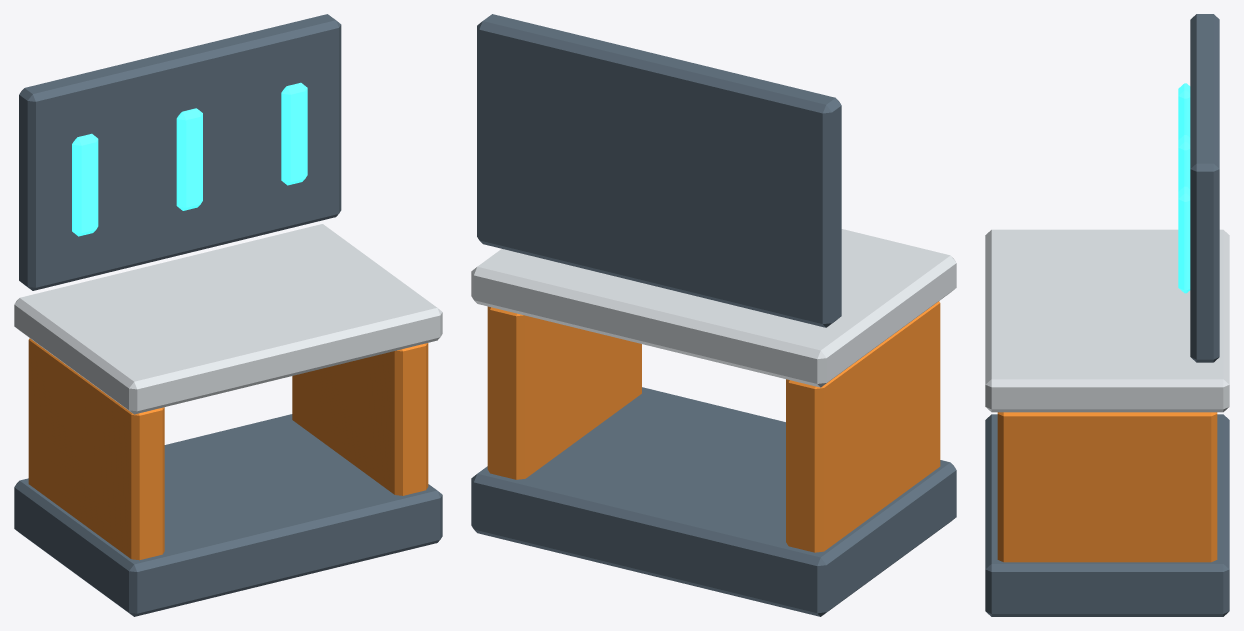
File: machine-workbench.fbx
The picture shows the model from 3 angles, left to right: view 1: azimuth 30°, elevation 25°; view 2: azimuth 150°, elevation 25°; view 3: azimuth 270°, elevation 25°; orthographic projection. The views are drawn at different scales.
Parts seen in each view (by area): view 1: machine-workbench_Tool panel.001, machine-workbench_Work surface.001, machine-workbench_Skid.001, machine-workbench_Leg.002, machine-workbench_Leg.003, machine-workbench_Tools.003, machine-workbench_Tools.005, machine-workbench_Tools.004; view 2: machine-workbench_Tool panel.001, machine-workbench_Skid.001, machine-workbench_Work surface.001, machine-workbench_Leg.002, machine-workbench_Leg.003; view 3: machine-workbench_Work surface.001, machine-workbench_Leg.003, machine-workbench_Skid.001, machine-workbench_Tool panel.001, machine-workbench_Tools.005, machine-workbench_Tools.003, machine-workbench_Tools.004.
Boxes of the visible parts, x1,y1,x2,y2 form: machine-workbench_Tool panel.001: (19, 14, 341, 290); machine-workbench_Work surface.001: (14, 224, 442, 414); machine-workbench_Skid.001: (14, 414, 442, 616); machine-workbench_Leg.002: (28, 338, 164, 560); machine-workbench_Leg.003: (292, 343, 428, 495); machine-workbench_Tools.003: (72, 133, 98, 236); machine-workbench_Tools.005: (281, 82, 307, 185); machine-workbench_Tools.004: (176, 108, 202, 210); machine-workbench_Tool panel.001: (477, 14, 841, 327); machine-workbench_Skid.001: (471, 387, 956, 616); machine-workbench_Work surface.001: (471, 229, 956, 387); machine-workbench_Leg.002: (786, 301, 940, 552); machine-workbench_Leg.003: (487, 306, 641, 479); machine-workbench_Work surface.001: (985, 229, 1229, 412); machine-workbench_Leg.003: (997, 412, 1217, 562); machine-workbench_Skid.001: (985, 414, 1229, 616); machine-workbench_Tool panel.001: (1190, 14, 1219, 362); machine-workbench_Tools.005: (1178, 186, 1190, 293); machine-workbench_Tools.003: (1178, 83, 1190, 139); machine-workbench_Tools.004: (1178, 135, 1190, 191).
Size of the model in its own units: 150 by 205 by 100.
